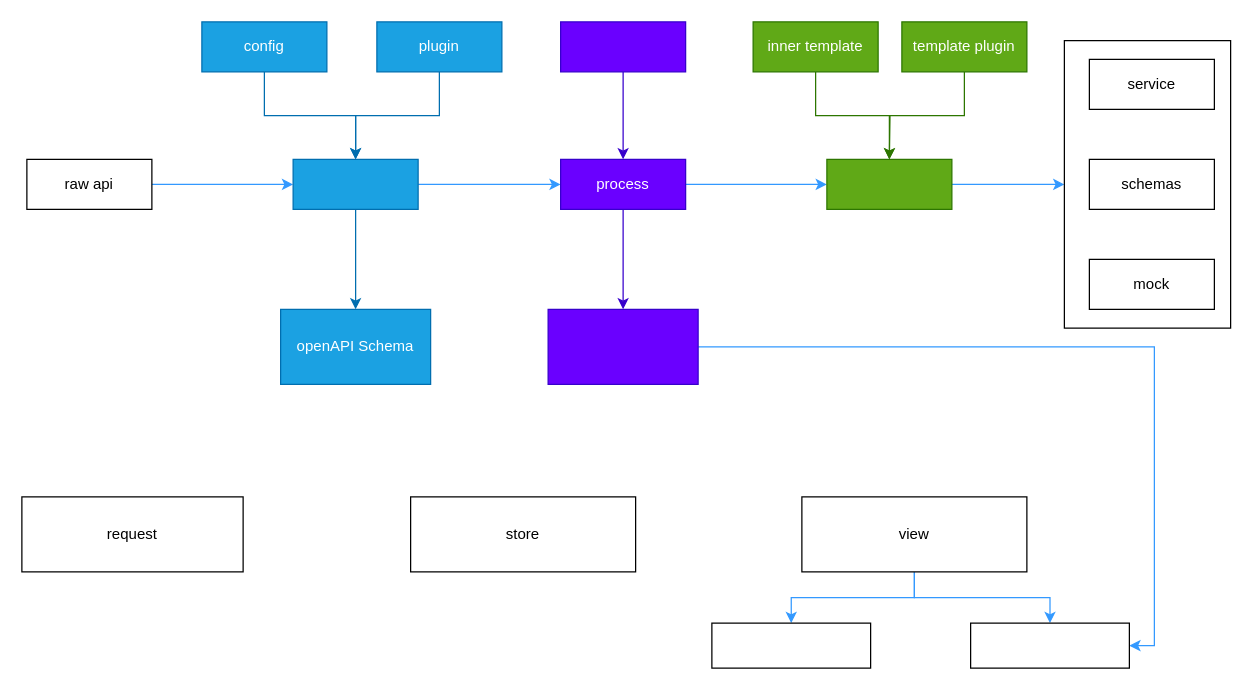
This 1253x690 diagram has some shape labels left out. Here are the shapes that lost their labels. From the top down, the centre of each, then its label:
the point at 622,46: ux config
the point at 355,183: parse
the point at 889,183: template
the point at 622,346: processed openAPI Schema
the point at 791,645: selector
the point at 1049,645: tree view
